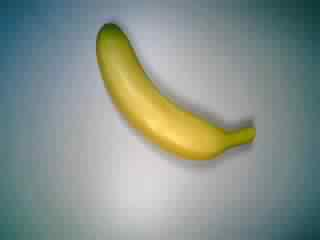banana: (90, 17, 271, 168)
